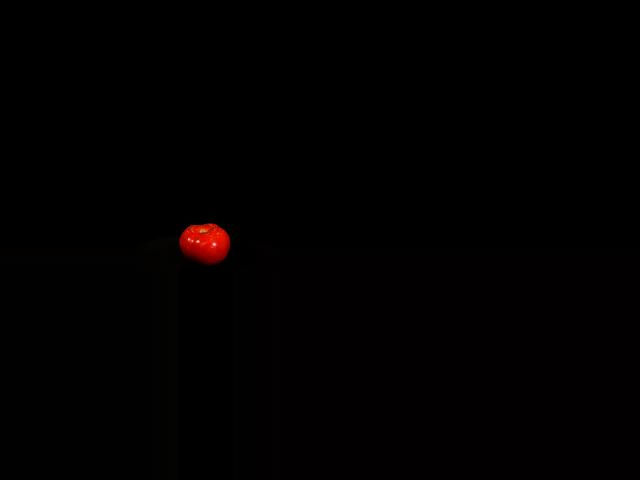tomato: (179, 223, 231, 266)
